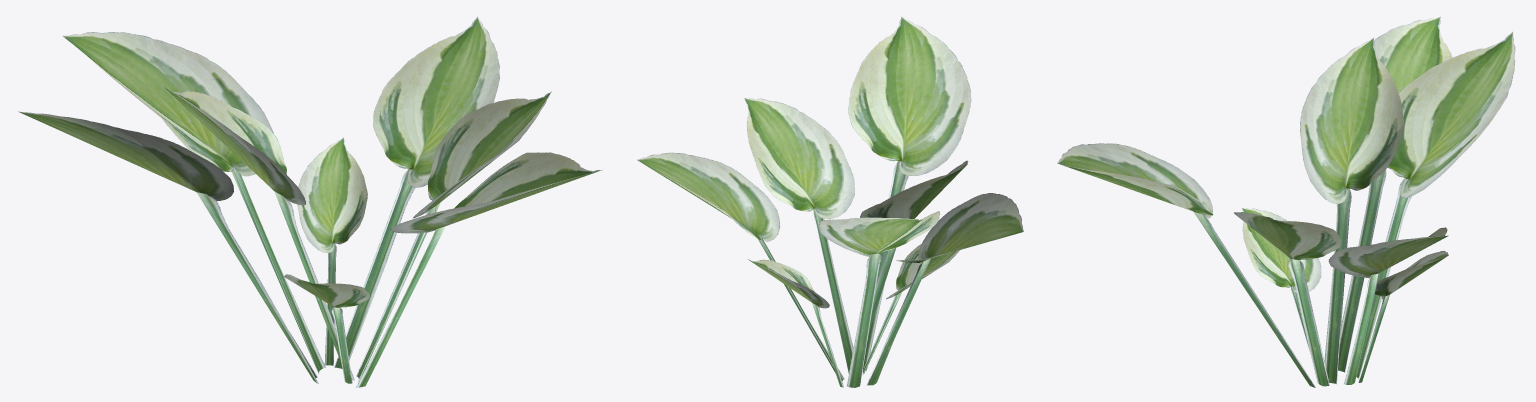
The model's file is plant_small_wg_02V.fbx.
The picture shows the model from 3 angles, left to right: view 1: azimuth 30°, elevation 25°; view 2: azimuth 150°, elevation 25°; view 3: azimuth 270°, elevation 25°; orthographic projection. The views are drawn at different scales.
Visible parts, largest first — view 1: plant_small_wg_02V; view 2: plant_small_wg_02V; view 3: plant_small_wg_02V.
Part boxes in pixels (x1,y1,x2,y2): plant_small_wg_02V: (18,16,602,387); plant_small_wg_02V: (637,16,1023,387); plant_small_wg_02V: (1057,16,1515,387).
Size of the model in its own units: 70.51 by 45.52 by 69.14.
